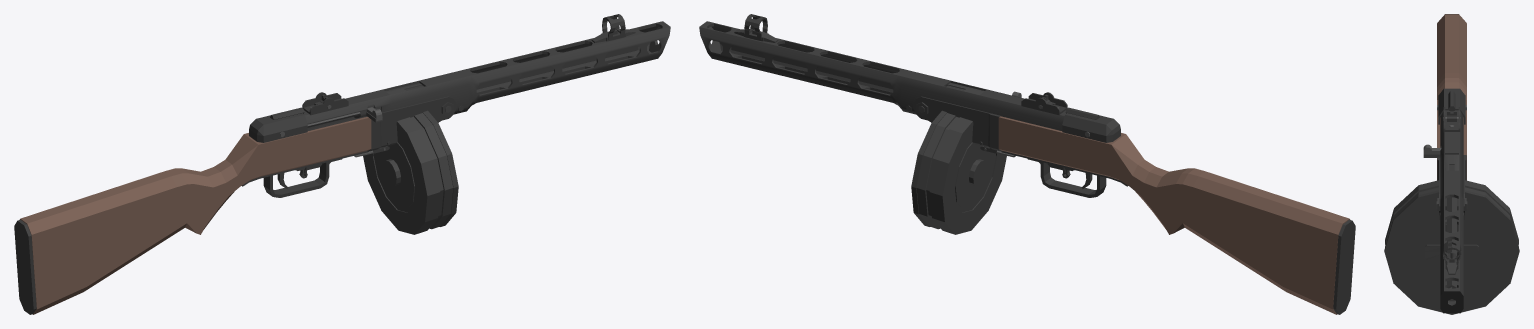
The model's file is ppsh.glb.
3 renders of one model, left to right at view 1: azimuth 30°, elevation 25°; view 2: azimuth 150°, elevation 25°; view 3: azimuth 270°, elevation 25°, orthographic.
Parts seen in each view (by area): view 1: Cube_0; view 2: Cube_0; view 3: Cube_0.
Boxes of the visible parts, box(x1,y1,x2,y2) form: Cube_0: box(14, 14, 670, 314); Cube_0: box(699, 14, 1355, 314); Cube_0: box(1384, 14, 1519, 314).
Bounding box in the file's own units: 0.8704 × 0.2081 × 0.1557.
Materials: 3 (3 with a texture image).
